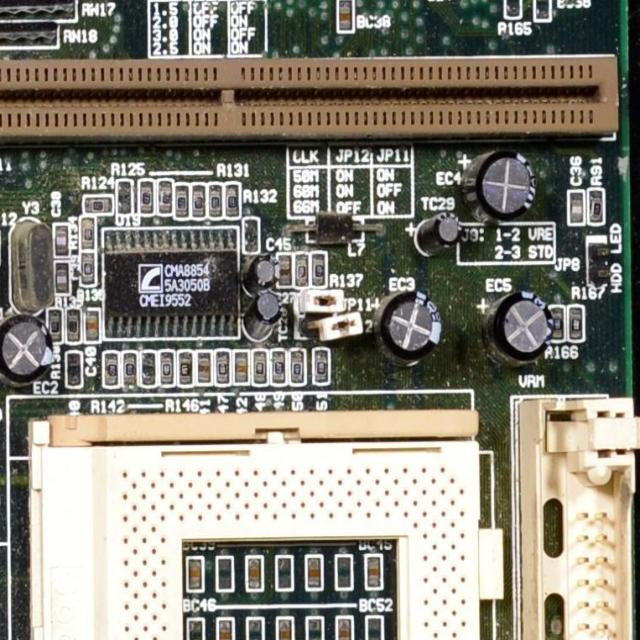IC: (4, 387, 514, 640), (101, 223, 246, 339)
capacitor: (102, 351, 119, 388), (566, 189, 583, 225), (232, 352, 249, 386), (275, 254, 292, 288), (85, 311, 100, 343), (295, 254, 308, 289)
connector: (0, 61, 627, 143), (518, 393, 639, 640)
resistor: (566, 304, 584, 344), (177, 350, 193, 388), (287, 349, 304, 384), (587, 189, 604, 224), (54, 262, 72, 295), (250, 351, 267, 385), (311, 252, 327, 288), (159, 349, 174, 387), (116, 179, 132, 214), (53, 223, 68, 260), (206, 186, 224, 216), (269, 351, 284, 386), (224, 183, 239, 218), (157, 180, 172, 214), (142, 351, 156, 387), (548, 307, 562, 343), (47, 310, 62, 343), (174, 184, 188, 219), (122, 353, 137, 385), (83, 196, 113, 212), (313, 351, 327, 385), (138, 181, 152, 215), (80, 216, 94, 250), (214, 352, 228, 383), (192, 186, 205, 219), (66, 312, 80, 342), (198, 352, 208, 386), (505, 0, 521, 19)
